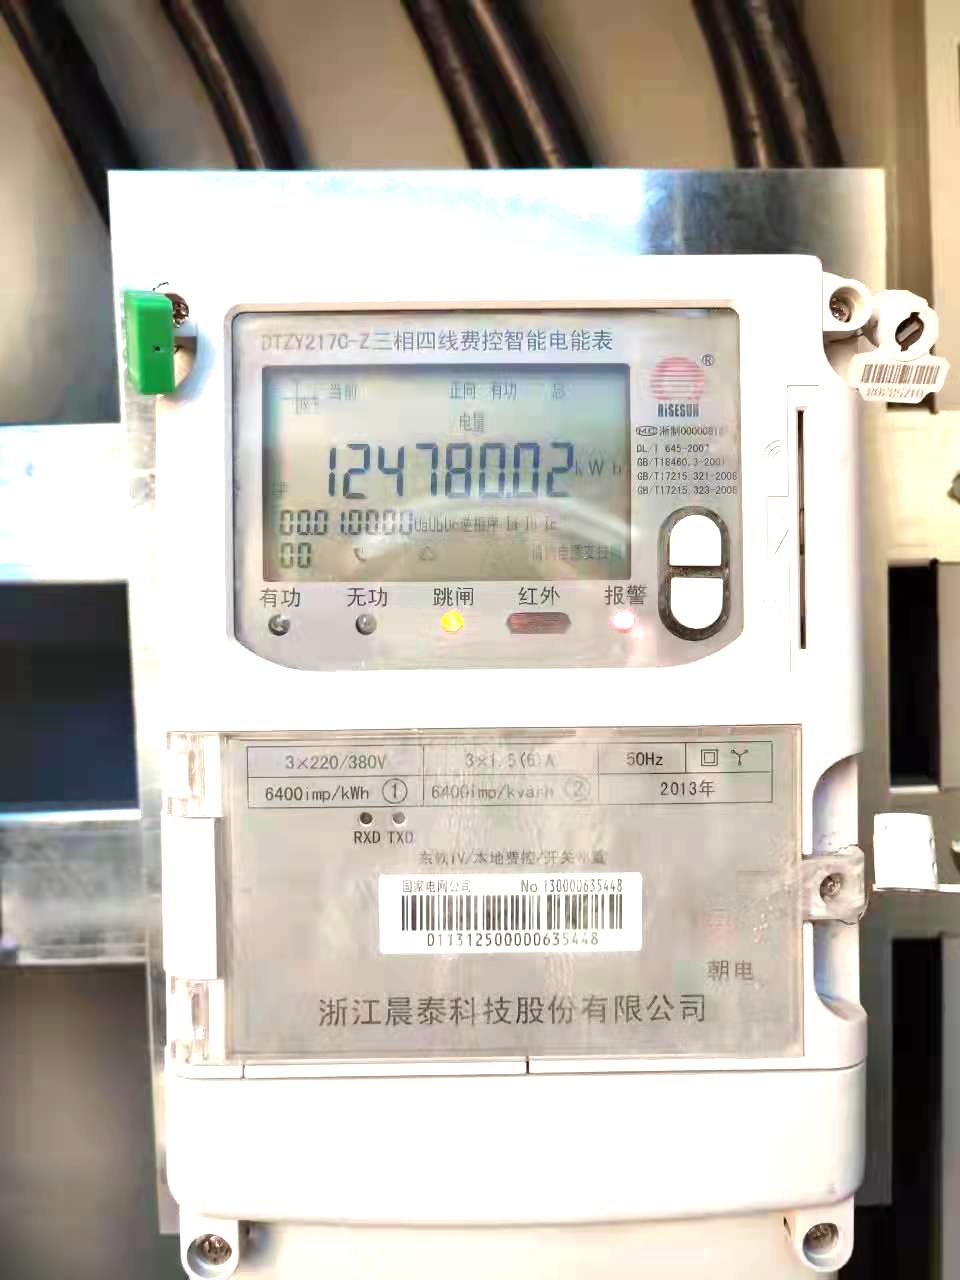digital: (153, 254, 875, 1224)
